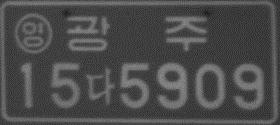0: (194, 62, 226, 110)
1: (12, 62, 44, 109)
5: (118, 62, 150, 110), (50, 63, 82, 108)
9: (231, 62, 265, 110), (156, 62, 189, 110)
광주_D: (65, 14, 208, 54)
다: (85, 67, 116, 104)
영: (14, 12, 53, 54)
